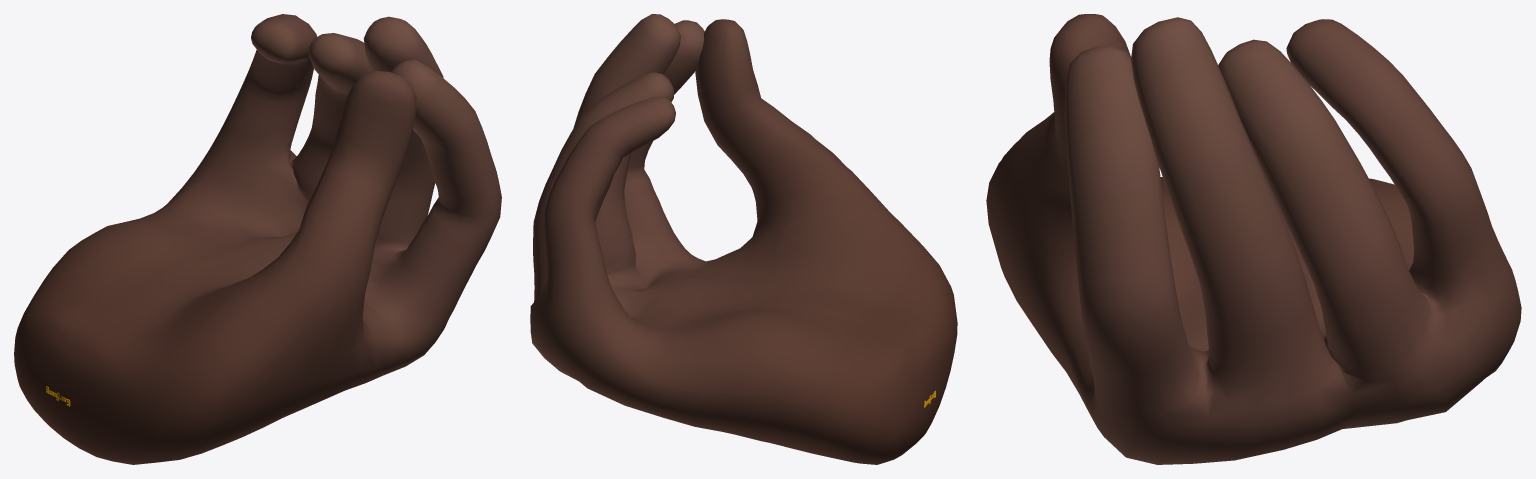
File: pinched_fingers.glb
3 views of the same model, side by side, from view 1: azimuth 30°, elevation 25°; view 2: azimuth 150°, elevation 25°; view 3: azimuth 270°, elevation 25° (orthographic). The views are drawn at different scales.
Parts seen in each view (by area): view 1: hand.009; view 2: hand.009; view 3: hand.009.
Boxes of the visible parts, x1,y1,x2,y2 form: hand.009: (14, 14, 501, 464); hand.009: (530, 14, 957, 464); hand.009: (986, 14, 1521, 464).
Size of the model in its own units: 1.7 by 1.51 by 1.48.
Materials: 2 (2 with a texture image).
